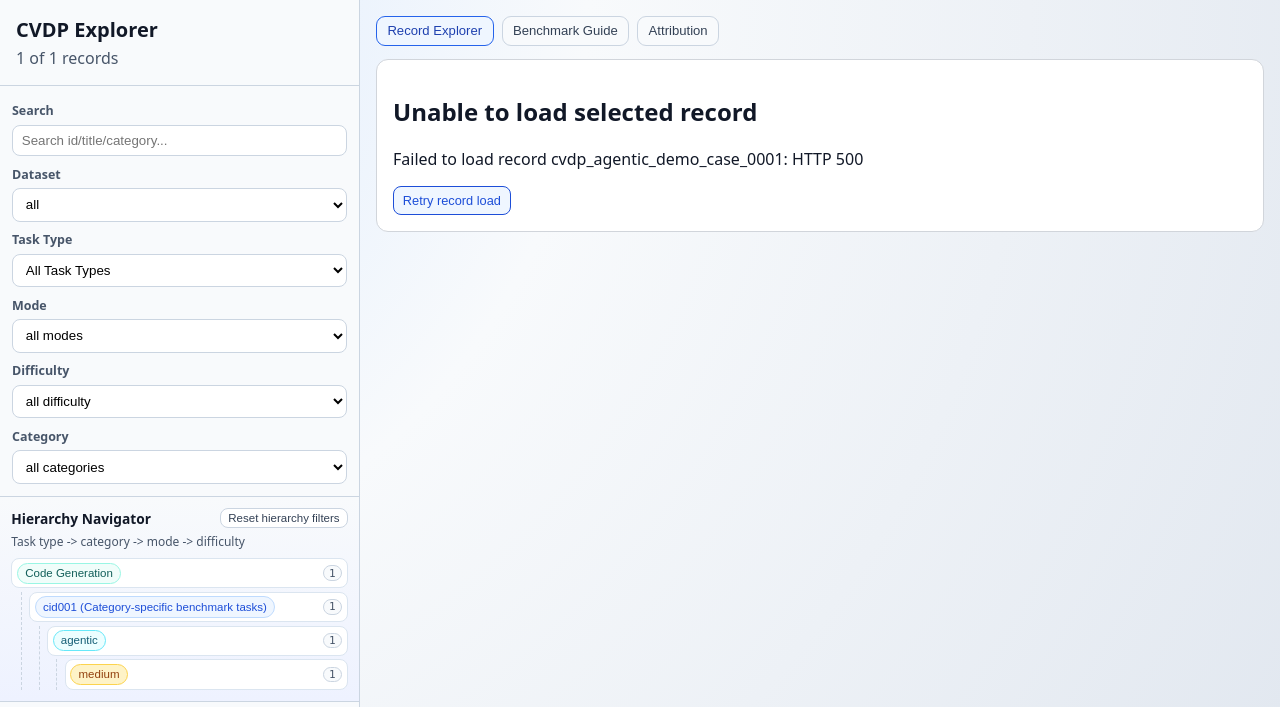
it: App › renders record error state and supports retry of selected record
expect the heading "Unable to load selected record" is shown: met, box top-left (393, 96), bottom-right (757, 128)
Click the button "Retry record load" at (452, 200), box top-left (393, 186), bottom-right (511, 215)
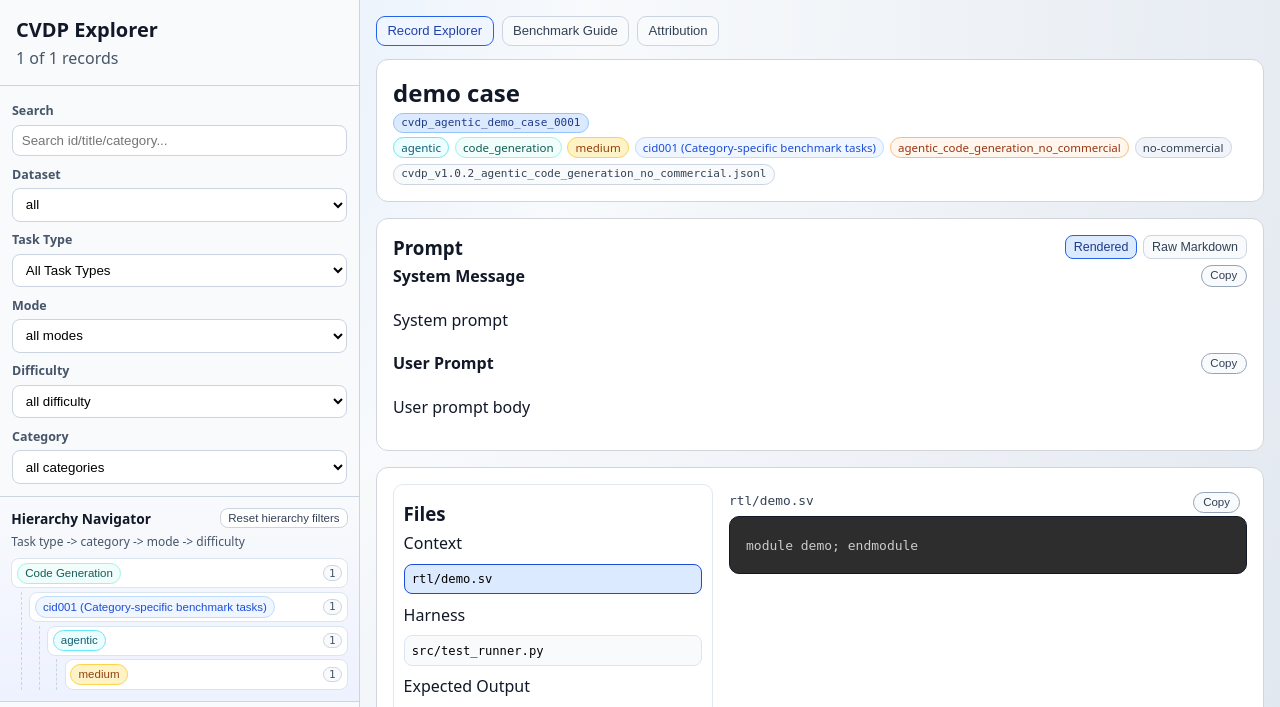
expect the text "User prompt body" is shown: met, box top-left (393, 396), bottom-right (530, 418)
